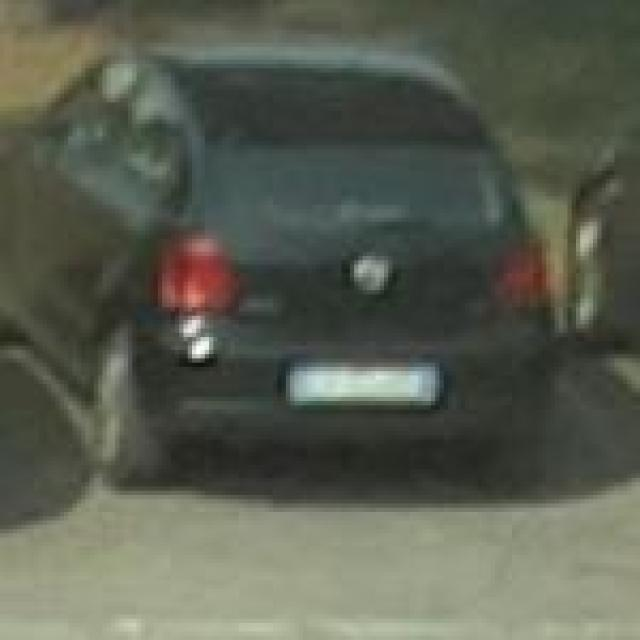cars-sUYr: (9, 27, 574, 535)
